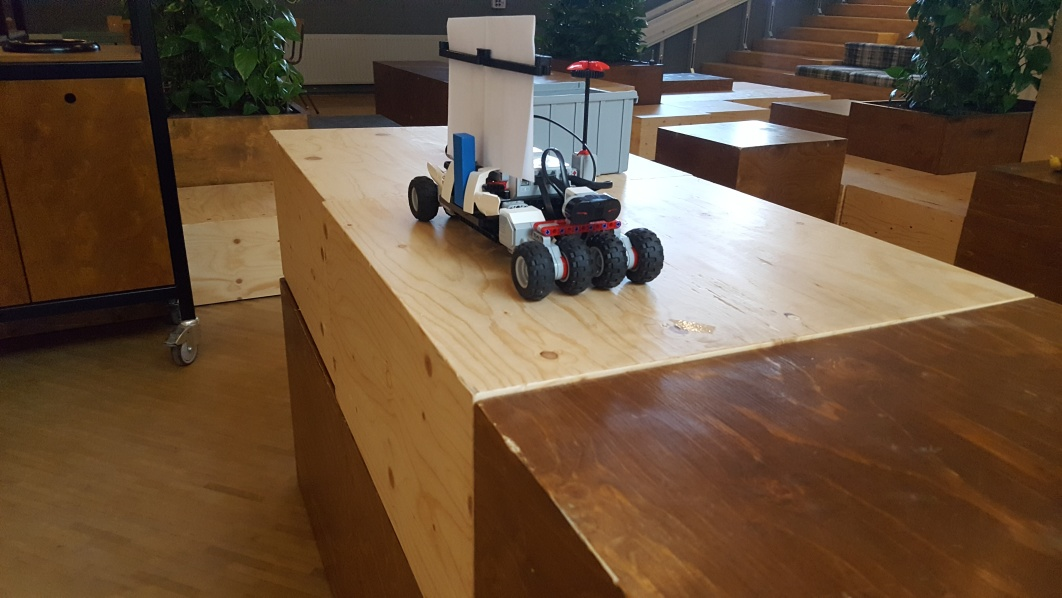beam: (454, 129, 475, 209)
